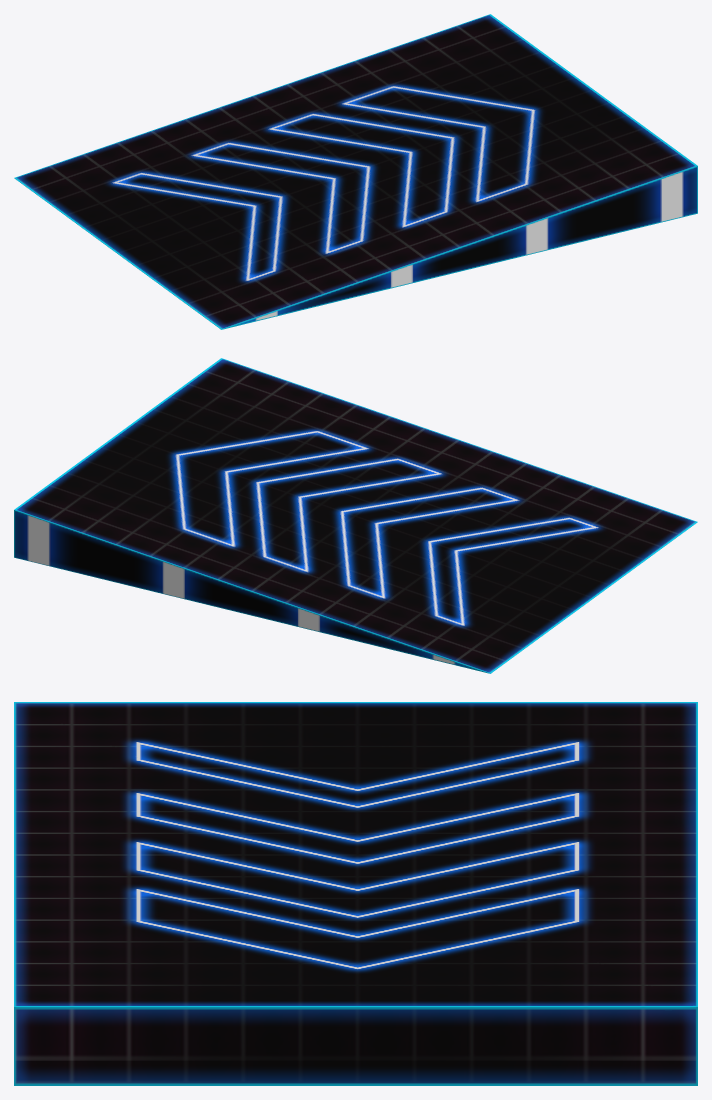
Rendered from Ramp Wedge.fbx.
3 views of the same model, one above another, from view 1: azimuth 30°, elevation 25°; view 2: azimuth 150°, elevation 25°; view 3: azimuth 270°, elevation 25° (orthographic). The views are drawn at different scales.
Visible parts, largest first — view 1: pCube2; view 2: pCube2; view 3: pCube2.
Part boxes in pixels (box(x1,y1,x2,y2)): pCube2: box(14, 14, 697, 329); pCube2: box(14, 358, 697, 673); pCube2: box(14, 702, 697, 1085).
Bounding box in the file's own units: 109 × 10.45 × 82.19.
1 material, 1 textured.
